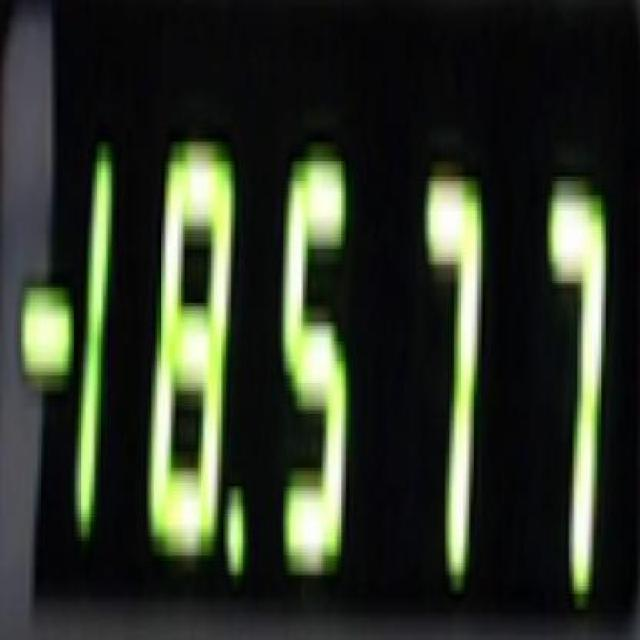.: (16, 272, 85, 394), (222, 486, 251, 578)
1: (75, 142, 116, 546)
5: (279, 140, 353, 580)
7: (421, 160, 487, 601), (546, 173, 608, 614)
8: (148, 122, 238, 579)
